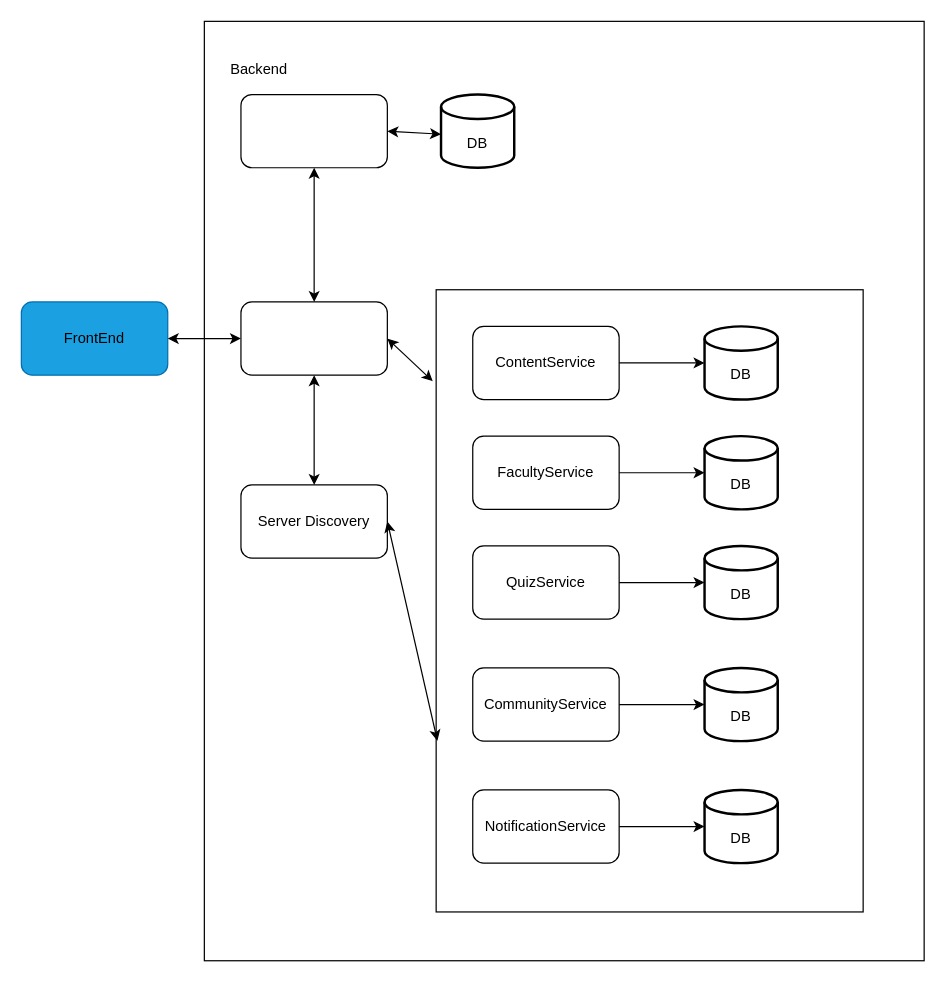
The diagram is 946 pixels wide and 982 high, and some of its shapes have lost their labels. Here are the shapes that lost their labels. From the top down, the box of each, then its label:
(240, 93, 387, 168): UserService
(240, 301, 387, 375): Gateway API
